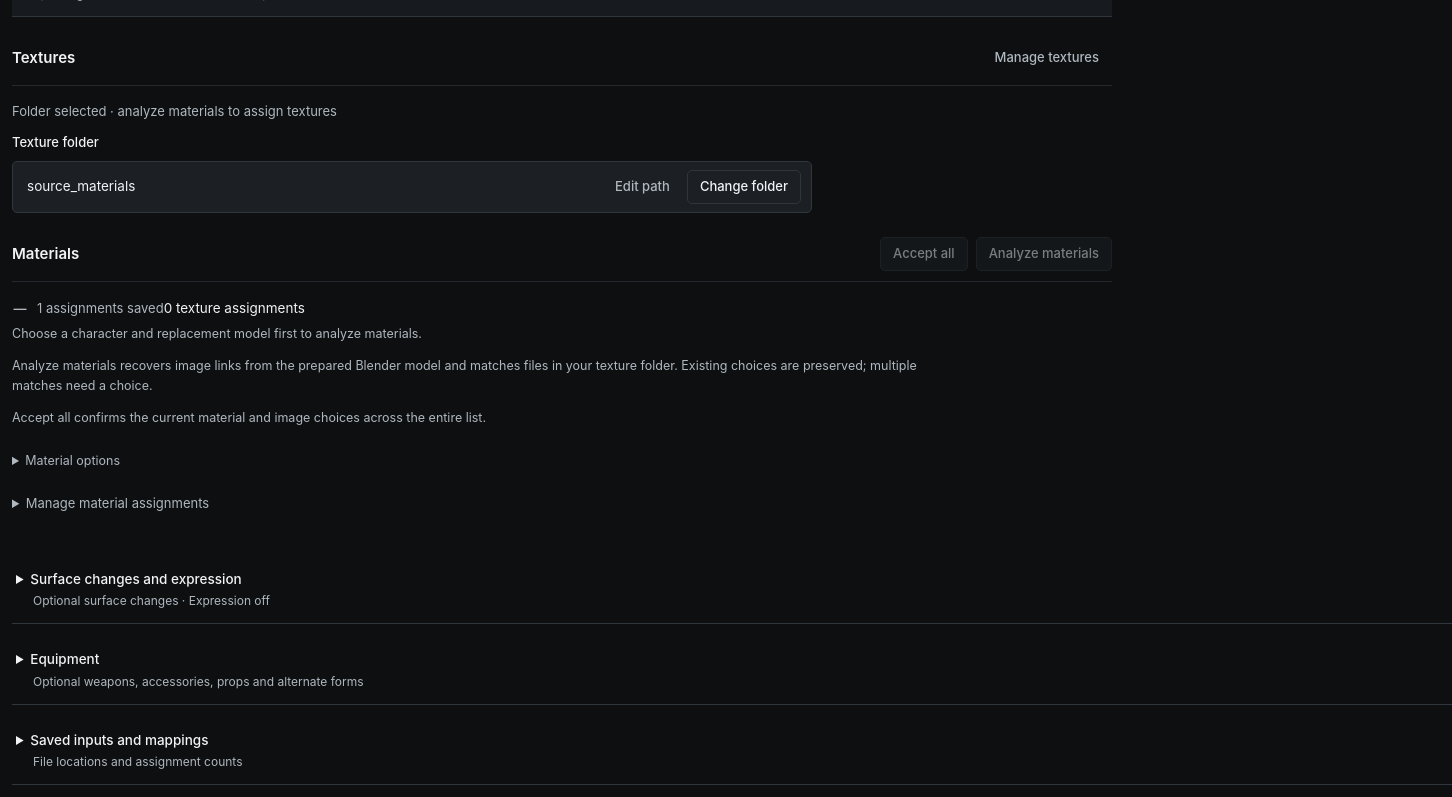
Compact workflow and honest build decisions › explains material prerequisites and keeps assignments available under Manage
The image size is (1452, 797).
(page scrolled)
Expected: the button "Analyze materials" is disabled, [976,236,1112,270]
Expected: the text "Choose a character and replacement model first to analyze materials." is shown, [12,326,422,341]
What coordinates should you click on to do the following:
click the heading "Manage material assignments"
I would click on:
 (111, 507)
Its box is [12,494,209,520].
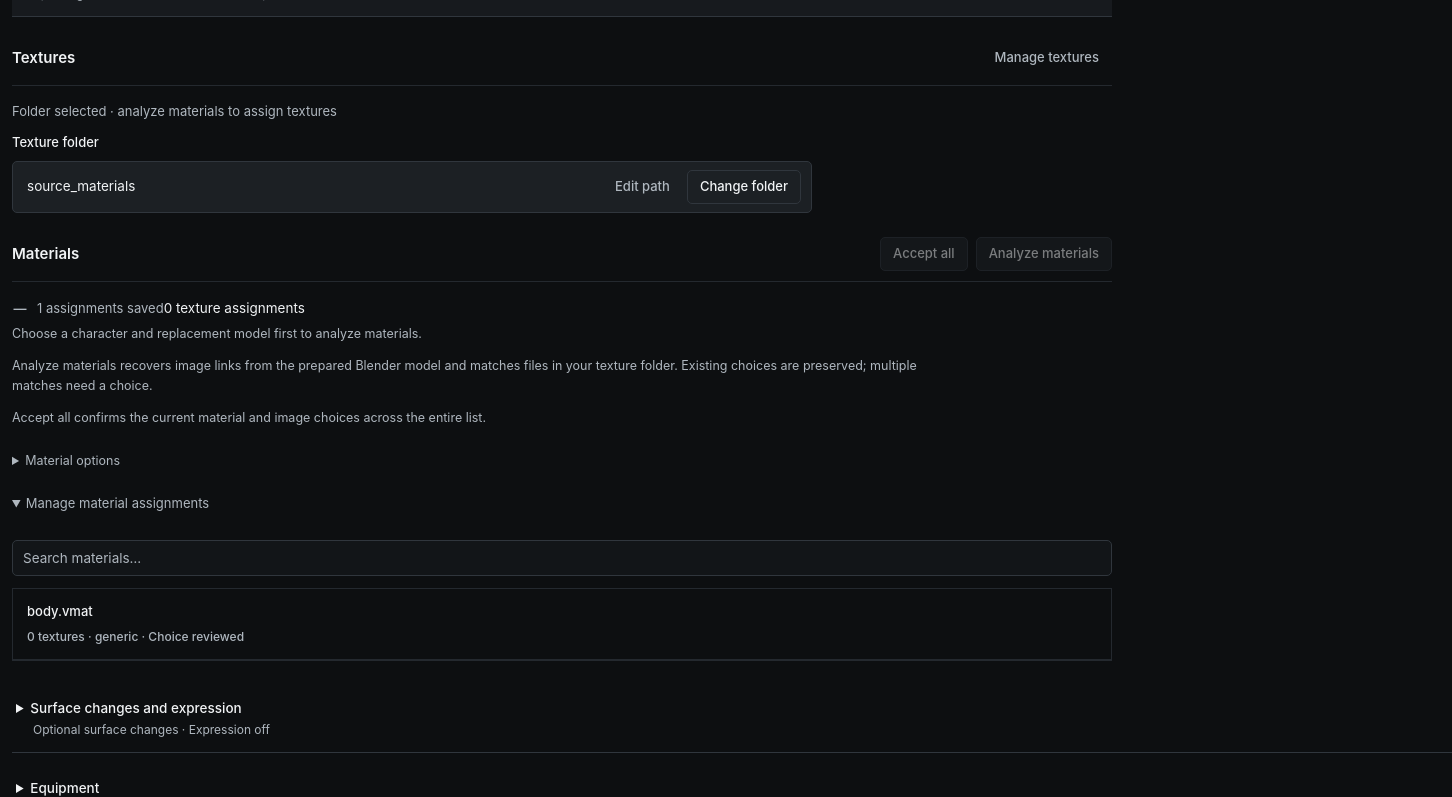
Result: the field labelled "Search materials" is shown at [12,540,1112,576]
